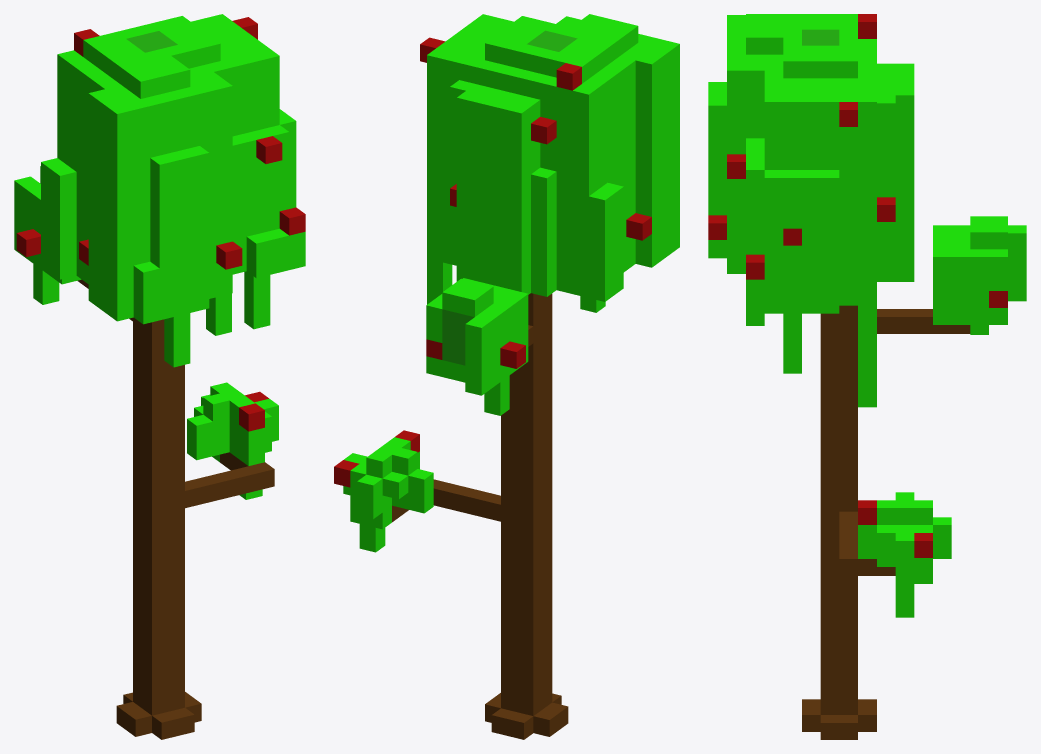
Rendered from Trea.obj.
3 renders of one model, left to right at view 1: azimuth 30°, elevation 25°; view 2: azimuth 150°, elevation 25°; view 3: azimuth 270°, elevation 25°, orthographic.
Visible parts, largest first — view 1: Trea; view 2: Trea; view 3: Trea.
Boxes of the visible parts, left/top/right/bottom form: Trea: left=14, top=14, right=305, bottom=739; Trea: left=334, top=14, right=679, bottom=739; Trea: left=708, top=14, right=1026, bottom=739.
Bounding box in the file's own units: 15 × 40 × 17.
1 material, 1 textured.
